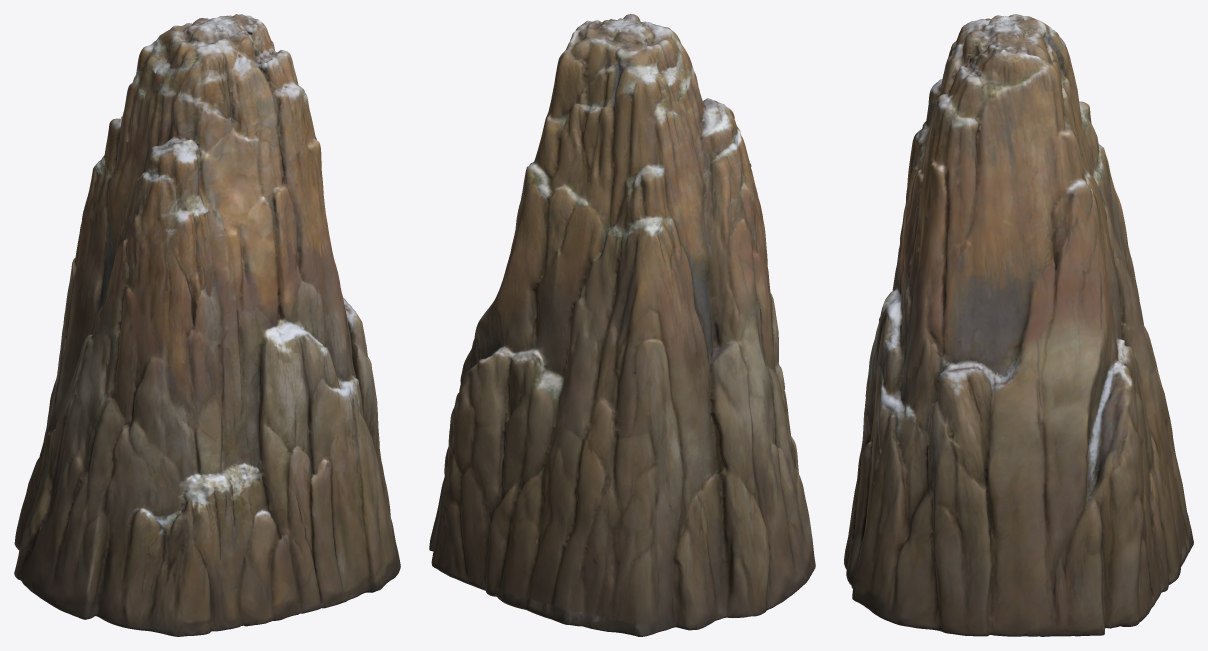
Rendered from Sentinel_Peak.glb.
3 views of the same model, side by side, from view 1: azimuth 30°, elevation 25°; view 2: azimuth 150°, elevation 25°; view 3: azimuth 270°, elevation 25° (orthographic). The views are drawn at different scales.
Parts seen in each view (by area): view 1: Sentinel_Peak; view 2: Sentinel_Peak; view 3: Sentinel_Peak.
Boxes of the visible parts, x1,y1,x2,y2 form: Sentinel_Peak: (14,14,400,636); Sentinel_Peak: (429,14,815,636); Sentinel_Peak: (844,14,1193,636).
Bounding box in the file's own units: 1.28 × 1.99 × 1.17.
Materials: 1 (1 with a texture image).
